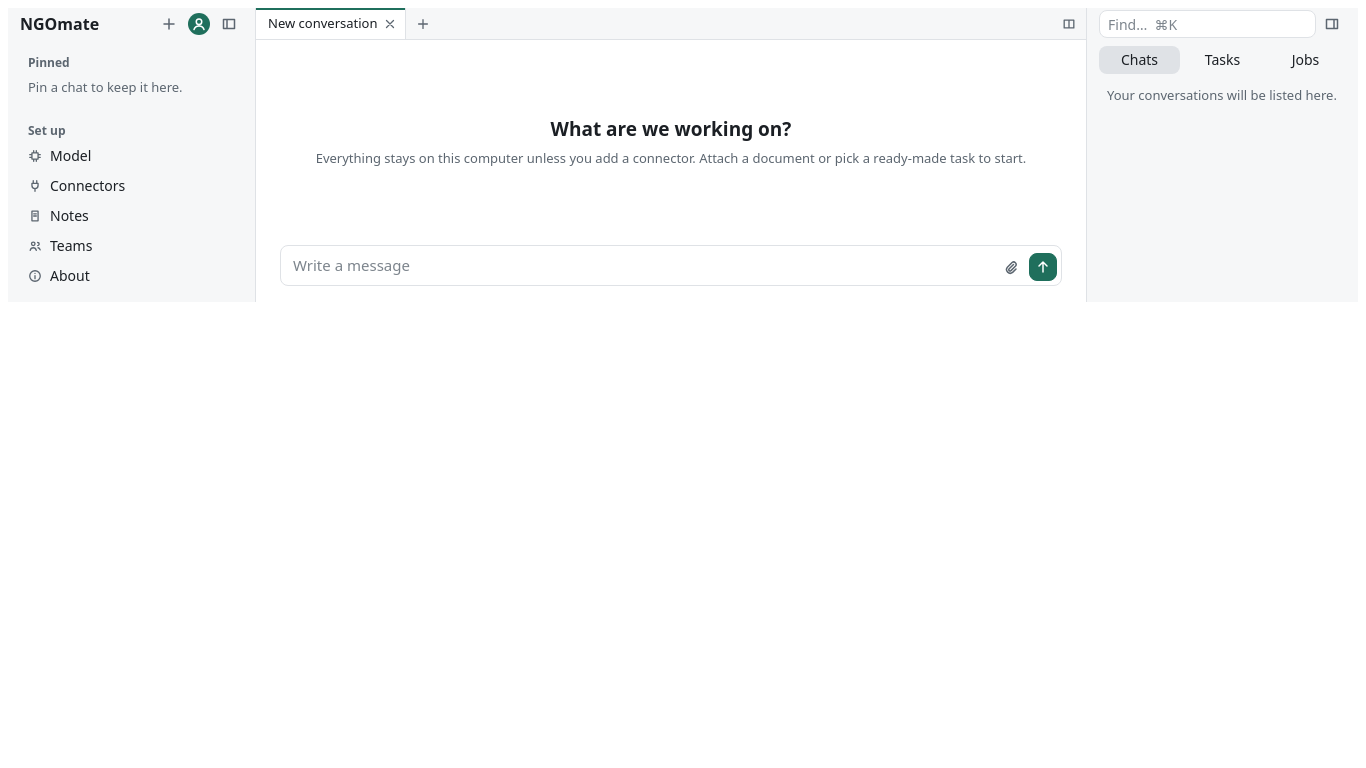
team › saves a note for the team only when the person picks that
Check: the button named "You and your team" is shown, box left=185, top=10, right=213, bottom=38
Type "Remember this for everyone" into the text box labelled "message". click: (643, 265)
box: left=293, top=250, right=993, bottom=280
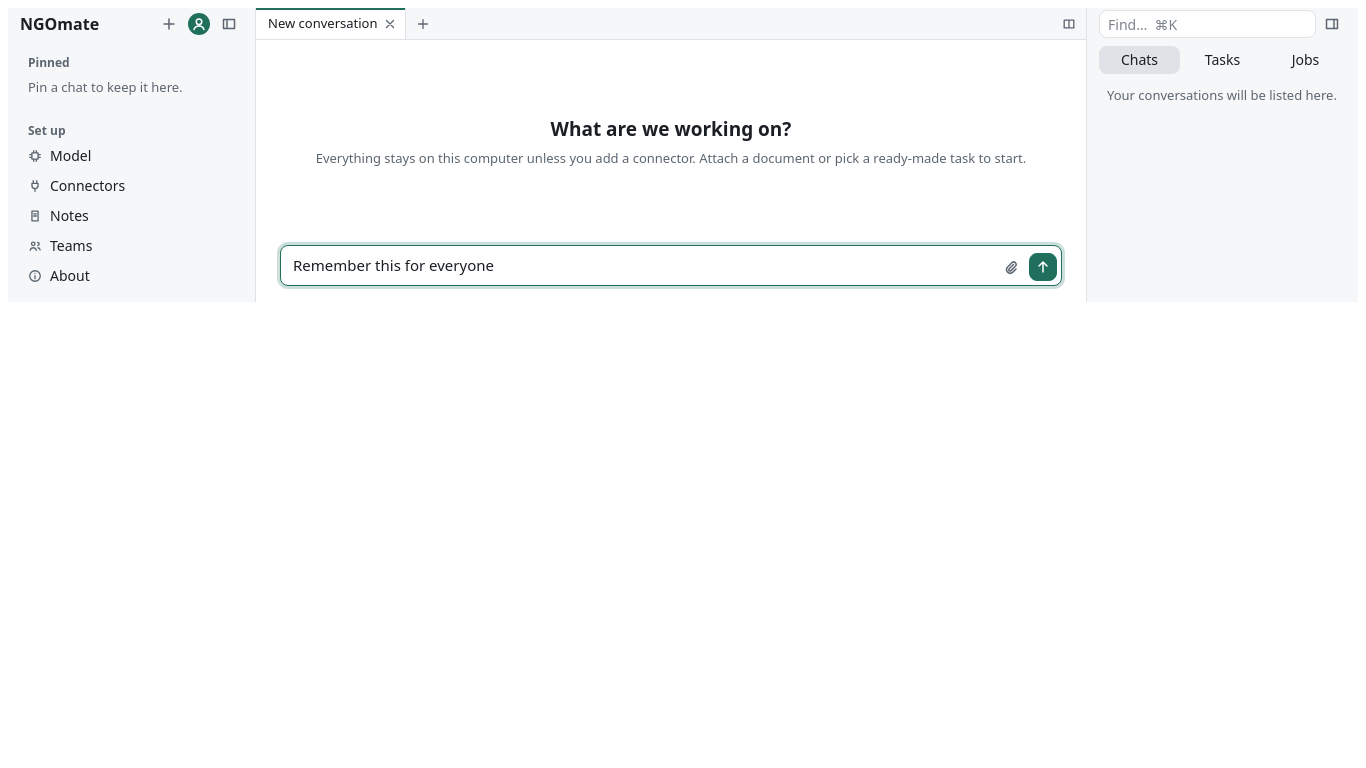
Click the button named "Send". click: click(1043, 266)
box: left=1029, top=252, right=1057, bottom=280
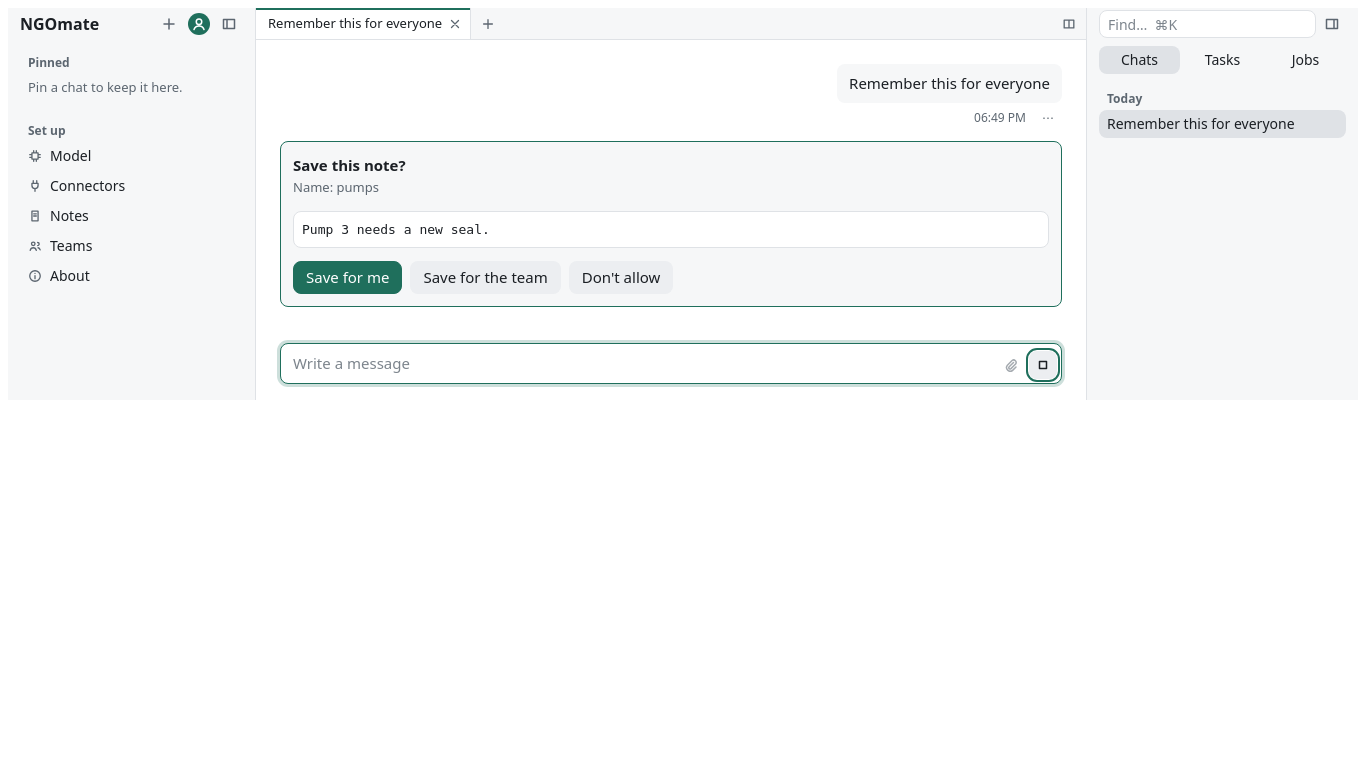
Click the button "Save for the team". click: click(486, 277)
box: left=410, top=261, right=561, bottom=294
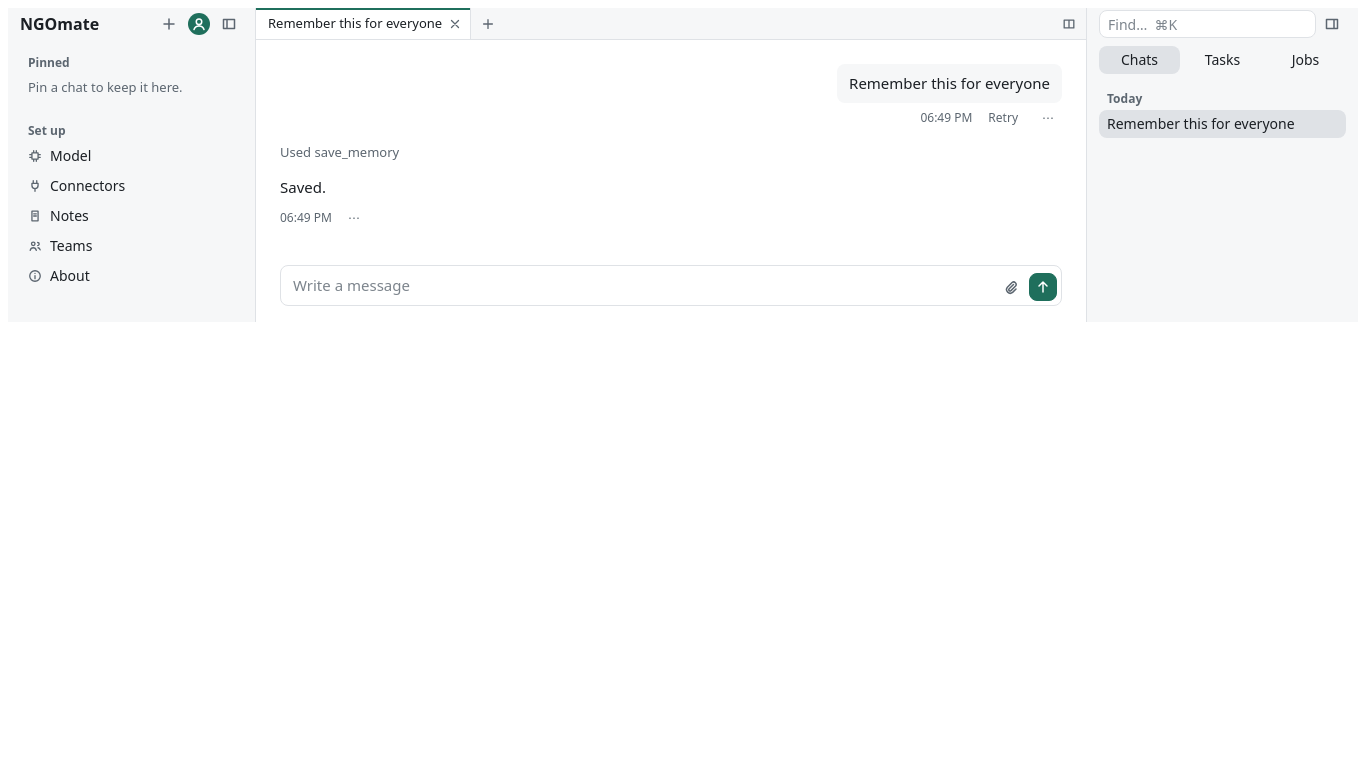
Check: the text "Saved." is shown, box left=280, top=177, right=326, bottom=197
